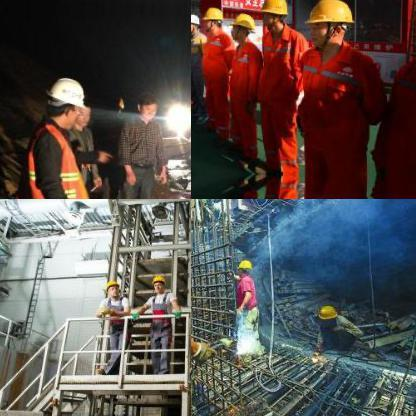Helmet: (301, 0, 354, 51), (46, 74, 84, 128), (256, 0, 288, 32), (230, 10, 254, 40), (203, 3, 223, 32), (316, 304, 338, 324), (102, 278, 121, 296), (148, 272, 164, 292), (236, 254, 252, 274), (191, 9, 201, 34)
